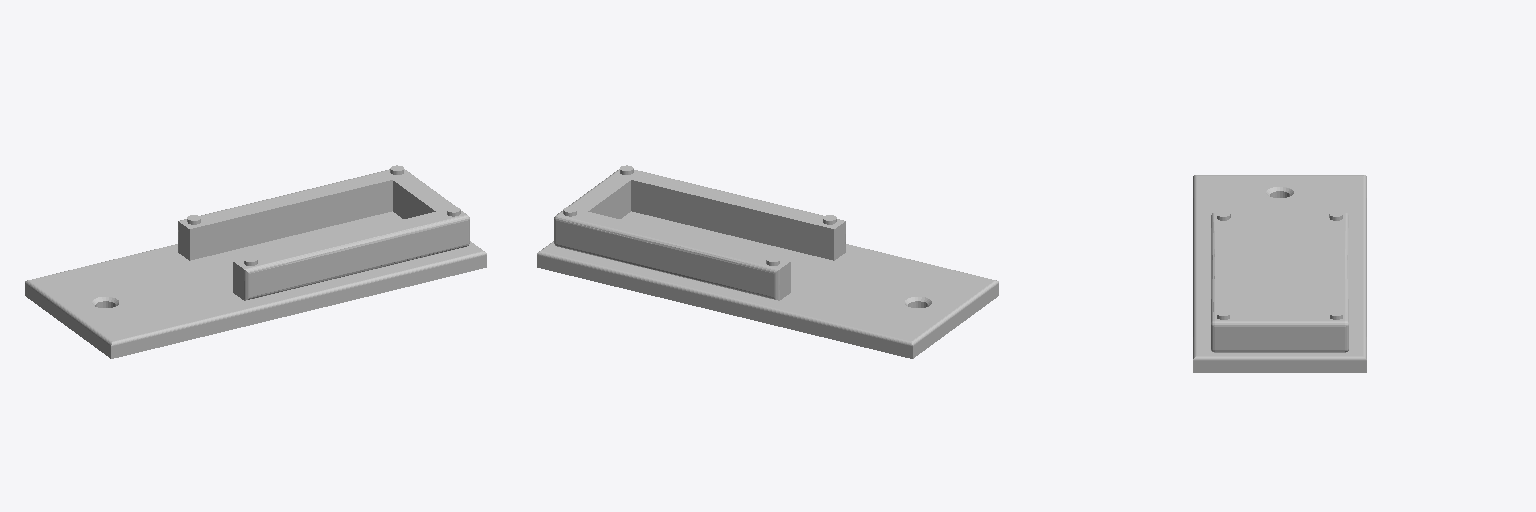
3 renders of one model, left to right at view 1: azimuth 30°, elevation 25°; view 2: azimuth 150°, elevation 25°; view 3: azimuth 270°, elevation 25°, orthographic.
Parts seen in each view (by area): view 1: mesh 2 Chamfer1, mesh 3 Bolt-1; view 2: mesh 2 Chamfer1, mesh 3 Bolt-1; view 3: mesh 2 Chamfer1, mesh 3 Bolt-1.
Part boxes in pixels (left/top/right/bottom): mesh 2 Chamfer1: left=25, top=211, right=486, bottom=358; mesh 3 Bolt-1: left=178, top=169, right=469, bottom=300; mesh 2 Chamfer1: left=537, top=211, right=998, bottom=358; mesh 3 Bolt-1: left=554, top=169, right=845, bottom=300; mesh 2 Chamfer1: left=1193, top=175, right=1366, bottom=372; mesh 3 Bolt-1: left=1211, top=213, right=1348, bottom=352.
Size of the model in its own units: 0.25 by 0.0325 by 0.1.